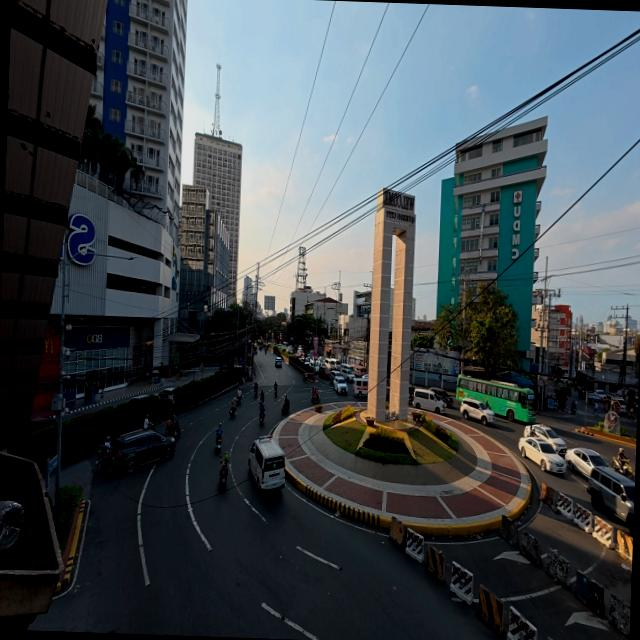bus: (456, 375, 535, 423)
car: (587, 467, 634, 535), (110, 430, 174, 473), (518, 437, 564, 472), (524, 424, 566, 456), (564, 448, 607, 477), (459, 399, 493, 425), (412, 389, 444, 414), (429, 388, 454, 407), (29, 417, 56, 431), (607, 398, 625, 415), (158, 387, 174, 403), (340, 364, 354, 380), (333, 377, 346, 394), (127, 394, 149, 403), (329, 371, 344, 384), (342, 367, 354, 382), (586, 393, 601, 403), (319, 365, 329, 378), (594, 390, 606, 399), (274, 356, 282, 367), (312, 362, 318, 374), (286, 346, 292, 355), (362, 374, 368, 379)
motorcycle: (612, 456, 631, 478), (96, 445, 111, 471), (164, 421, 180, 439), (219, 465, 227, 486), (634, 441, 640, 463), (143, 421, 154, 430), (311, 392, 320, 403), (281, 403, 289, 414), (215, 436, 220, 451), (570, 402, 575, 415), (259, 409, 263, 424), (229, 407, 234, 418), (273, 386, 277, 397), (236, 396, 241, 404), (302, 373, 306, 382), (259, 394, 263, 402), (253, 387, 256, 397), (264, 349, 265, 354)
vans: (413, 388, 444, 414), (352, 378, 367, 398), (339, 364, 354, 382), (325, 358, 339, 371)
